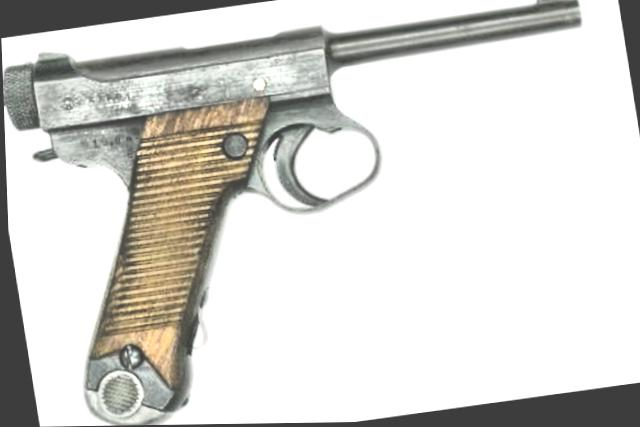pistol: (0, 0, 632, 427)
